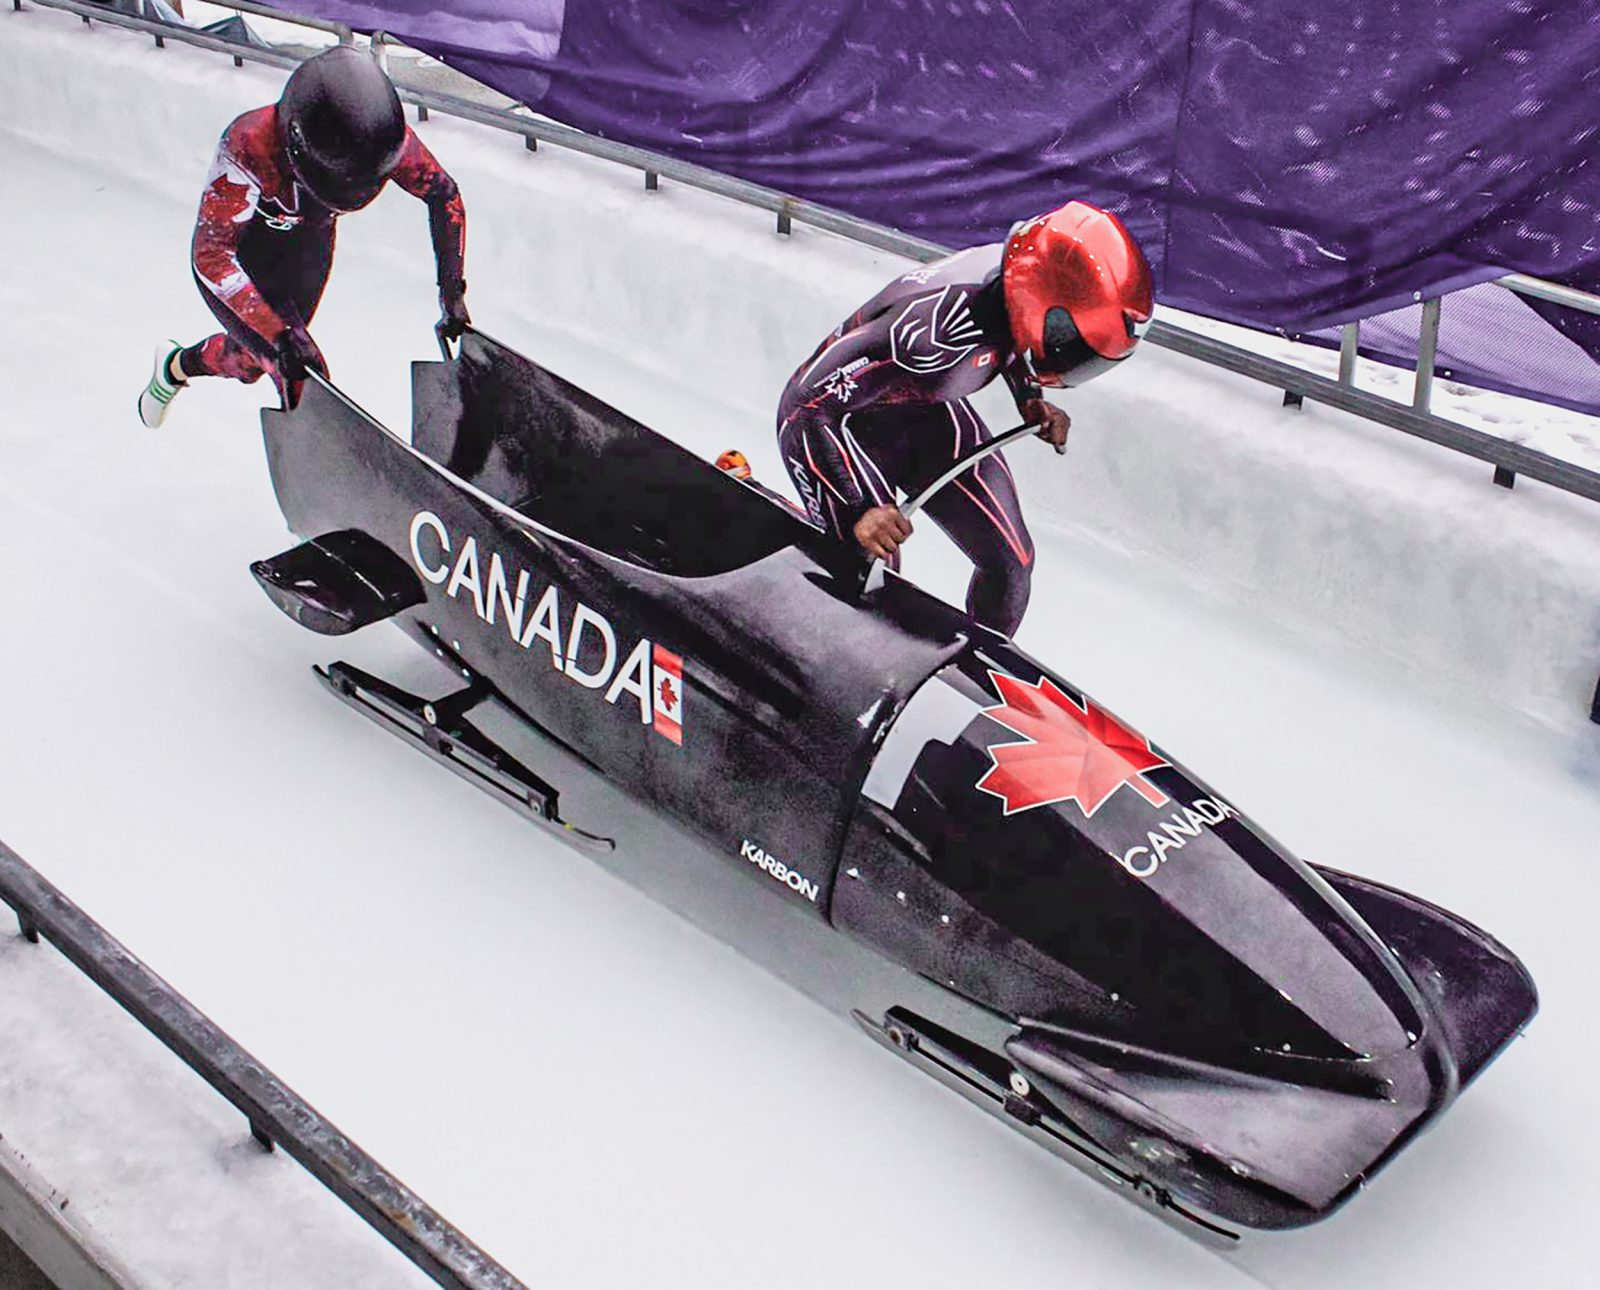Bobsleigh: (257, 334, 1543, 1225)
